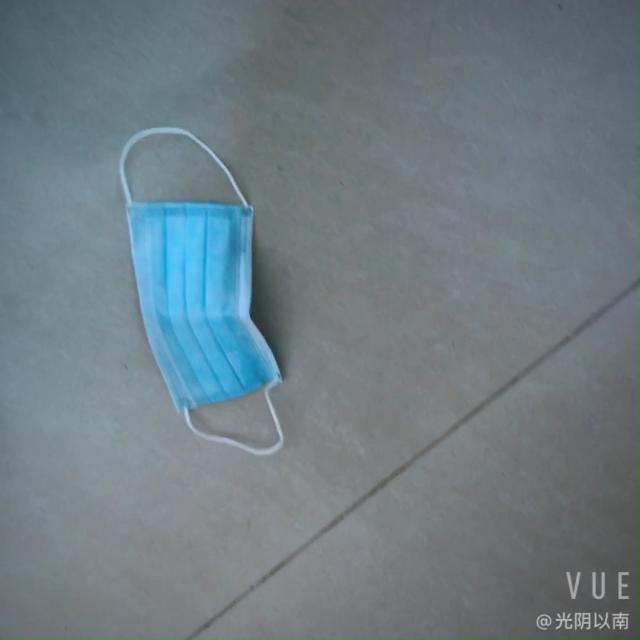non-organic waste: (135, 106, 292, 445)
